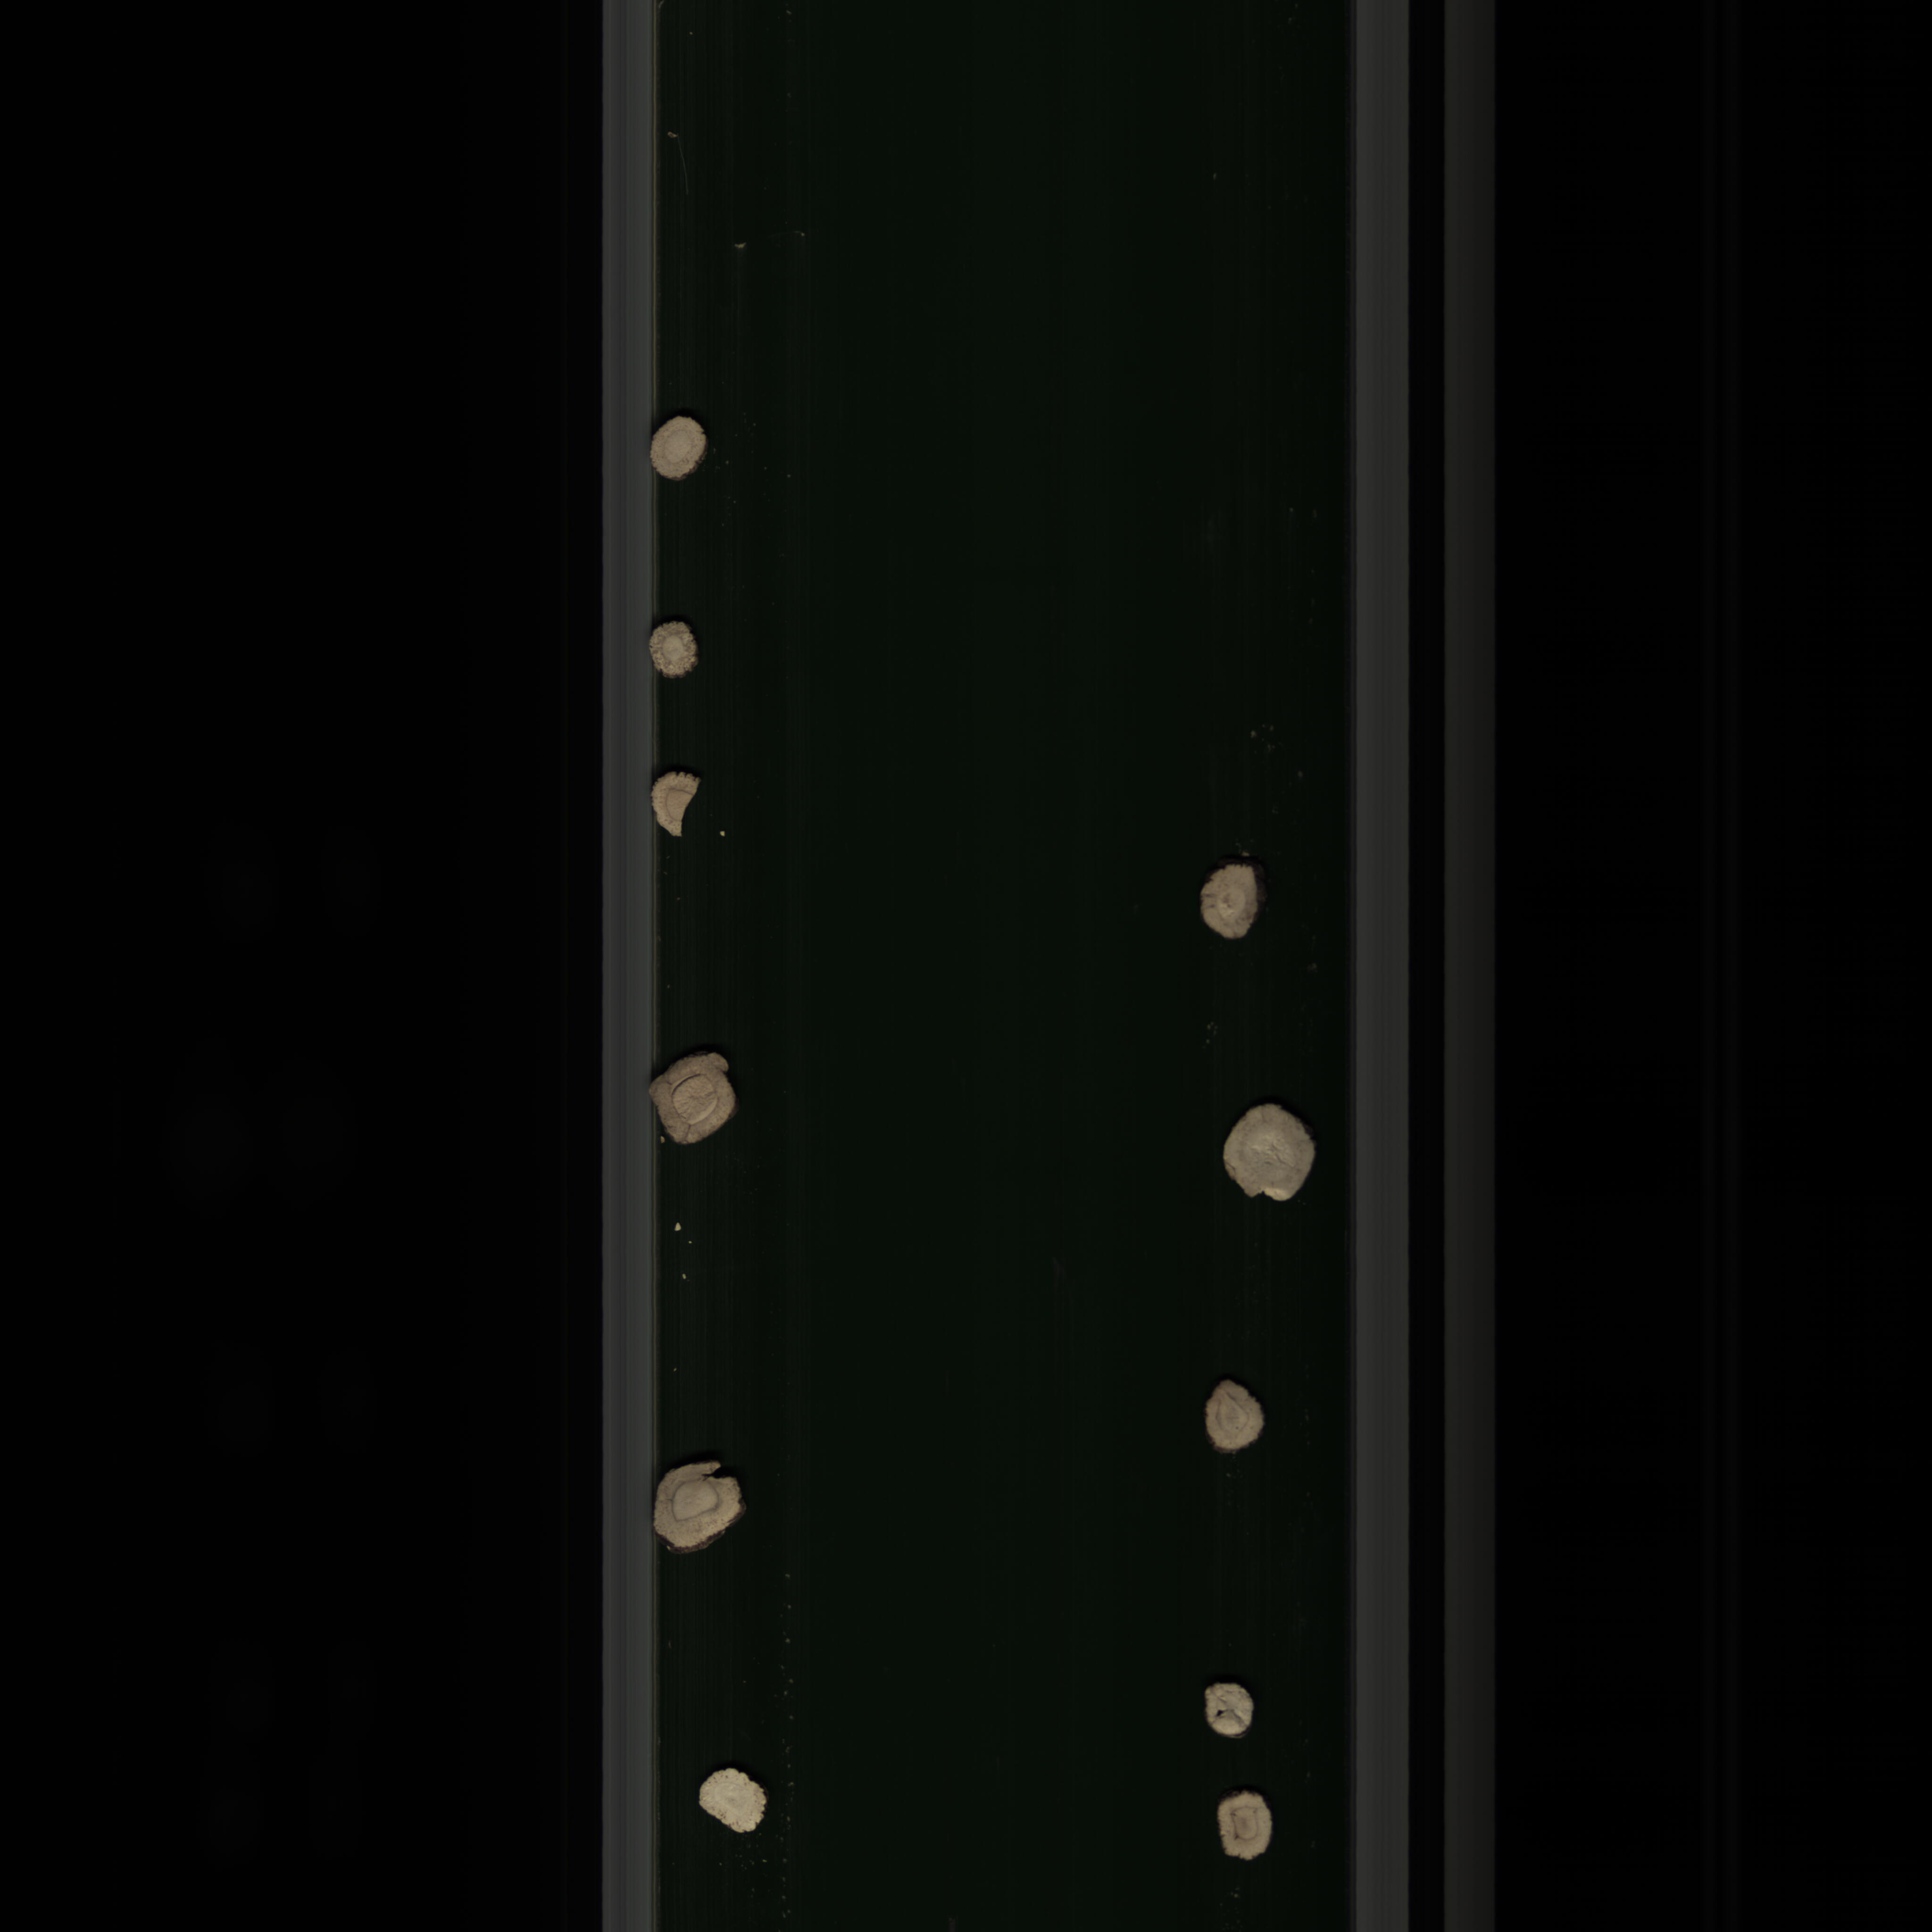debris: (635, 1438, 755, 1557), (651, 766, 708, 847)
distortion: (1182, 849, 1267, 947)
hole: (1196, 1661, 1263, 1750)
